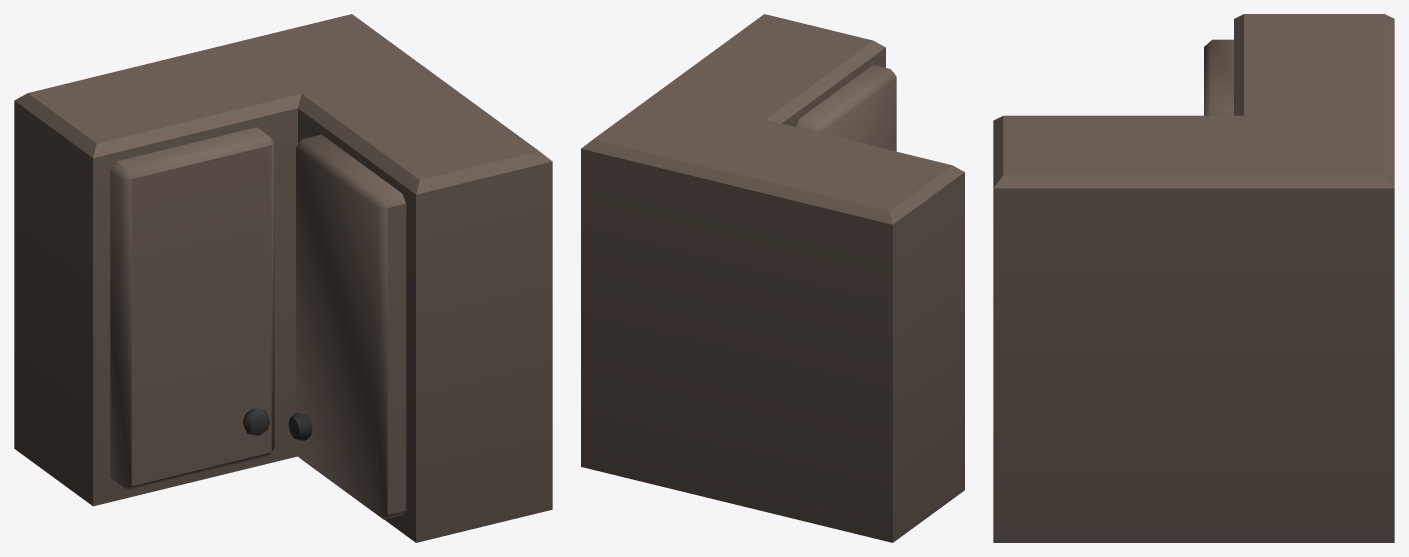
The model's file is kitchencabinet_corner_styleB.obj.
3 renders of one model, left to right at view 1: azimuth 30°, elevation 25°; view 2: azimuth 150°, elevation 25°; view 3: azimuth 270°, elevation 25°, orthographic. The views are drawn at different scales.
Parts seen in each view (by area): view 1: kitchencabinet_corner_styleB_Cube.029; view 2: kitchencabinet_corner_styleB_Cube.029; view 3: kitchencabinet_corner_styleB_Cube.029.
Part boxes in pixels (<box>): kitchencabinet_corner_styleB_Cube.029: <box>14,14,552,542</box>; kitchencabinet_corner_styleB_Cube.029: <box>581,14,964,542</box>; kitchencabinet_corner_styleB_Cube.029: <box>993,14,1394,542</box>.
Size of the model in its own units: 2 by 2 by 2.
1 material, 1 textured.
